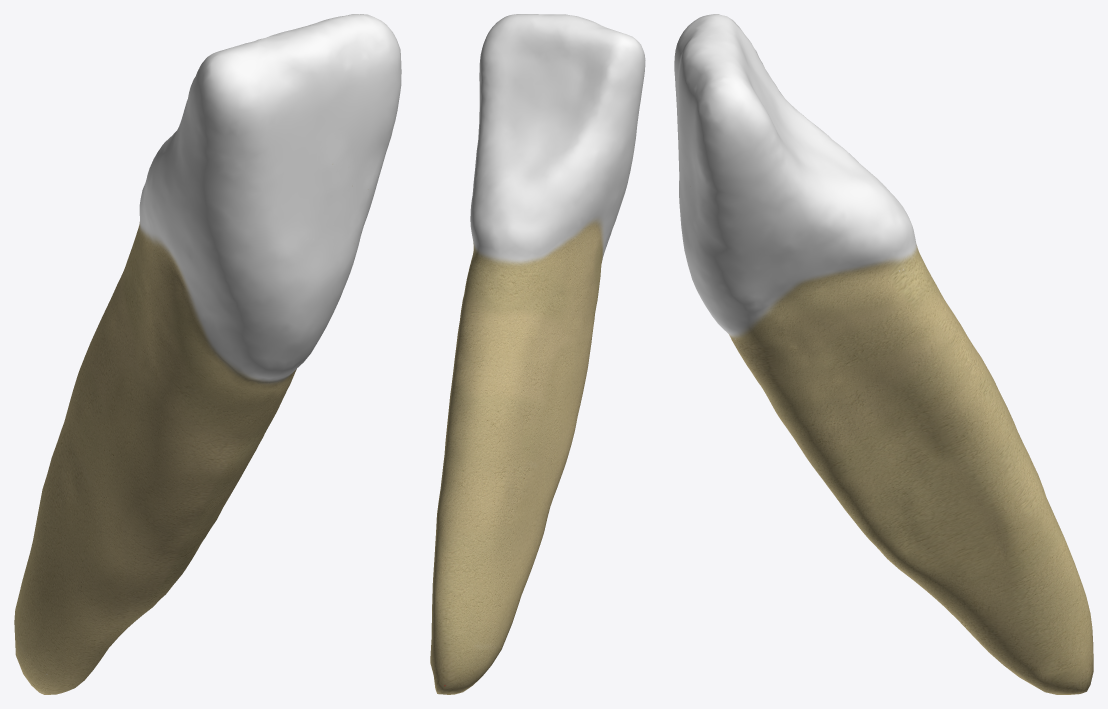
Rendered from Lateral .fbx.
3 views of the same model, side by side, from view 1: azimuth 30°, elevation 25°; view 2: azimuth 150°, elevation 25°; view 3: azimuth 270°, elevation 25° (orthographic). The views are drawn at different scales.
Parts seen in each view (by area): view 1: 23; view 2: 23; view 3: 23.
Part boxes in pixels (<box>): 23: <box>14,14,401,694</box>; 23: <box>430,14,645,694</box>; 23: <box>674,14,1093,694</box>.
Size of the model in its own units: 0.4625 by 1.7 by 0.9653.
2 materials, 1 textured.
